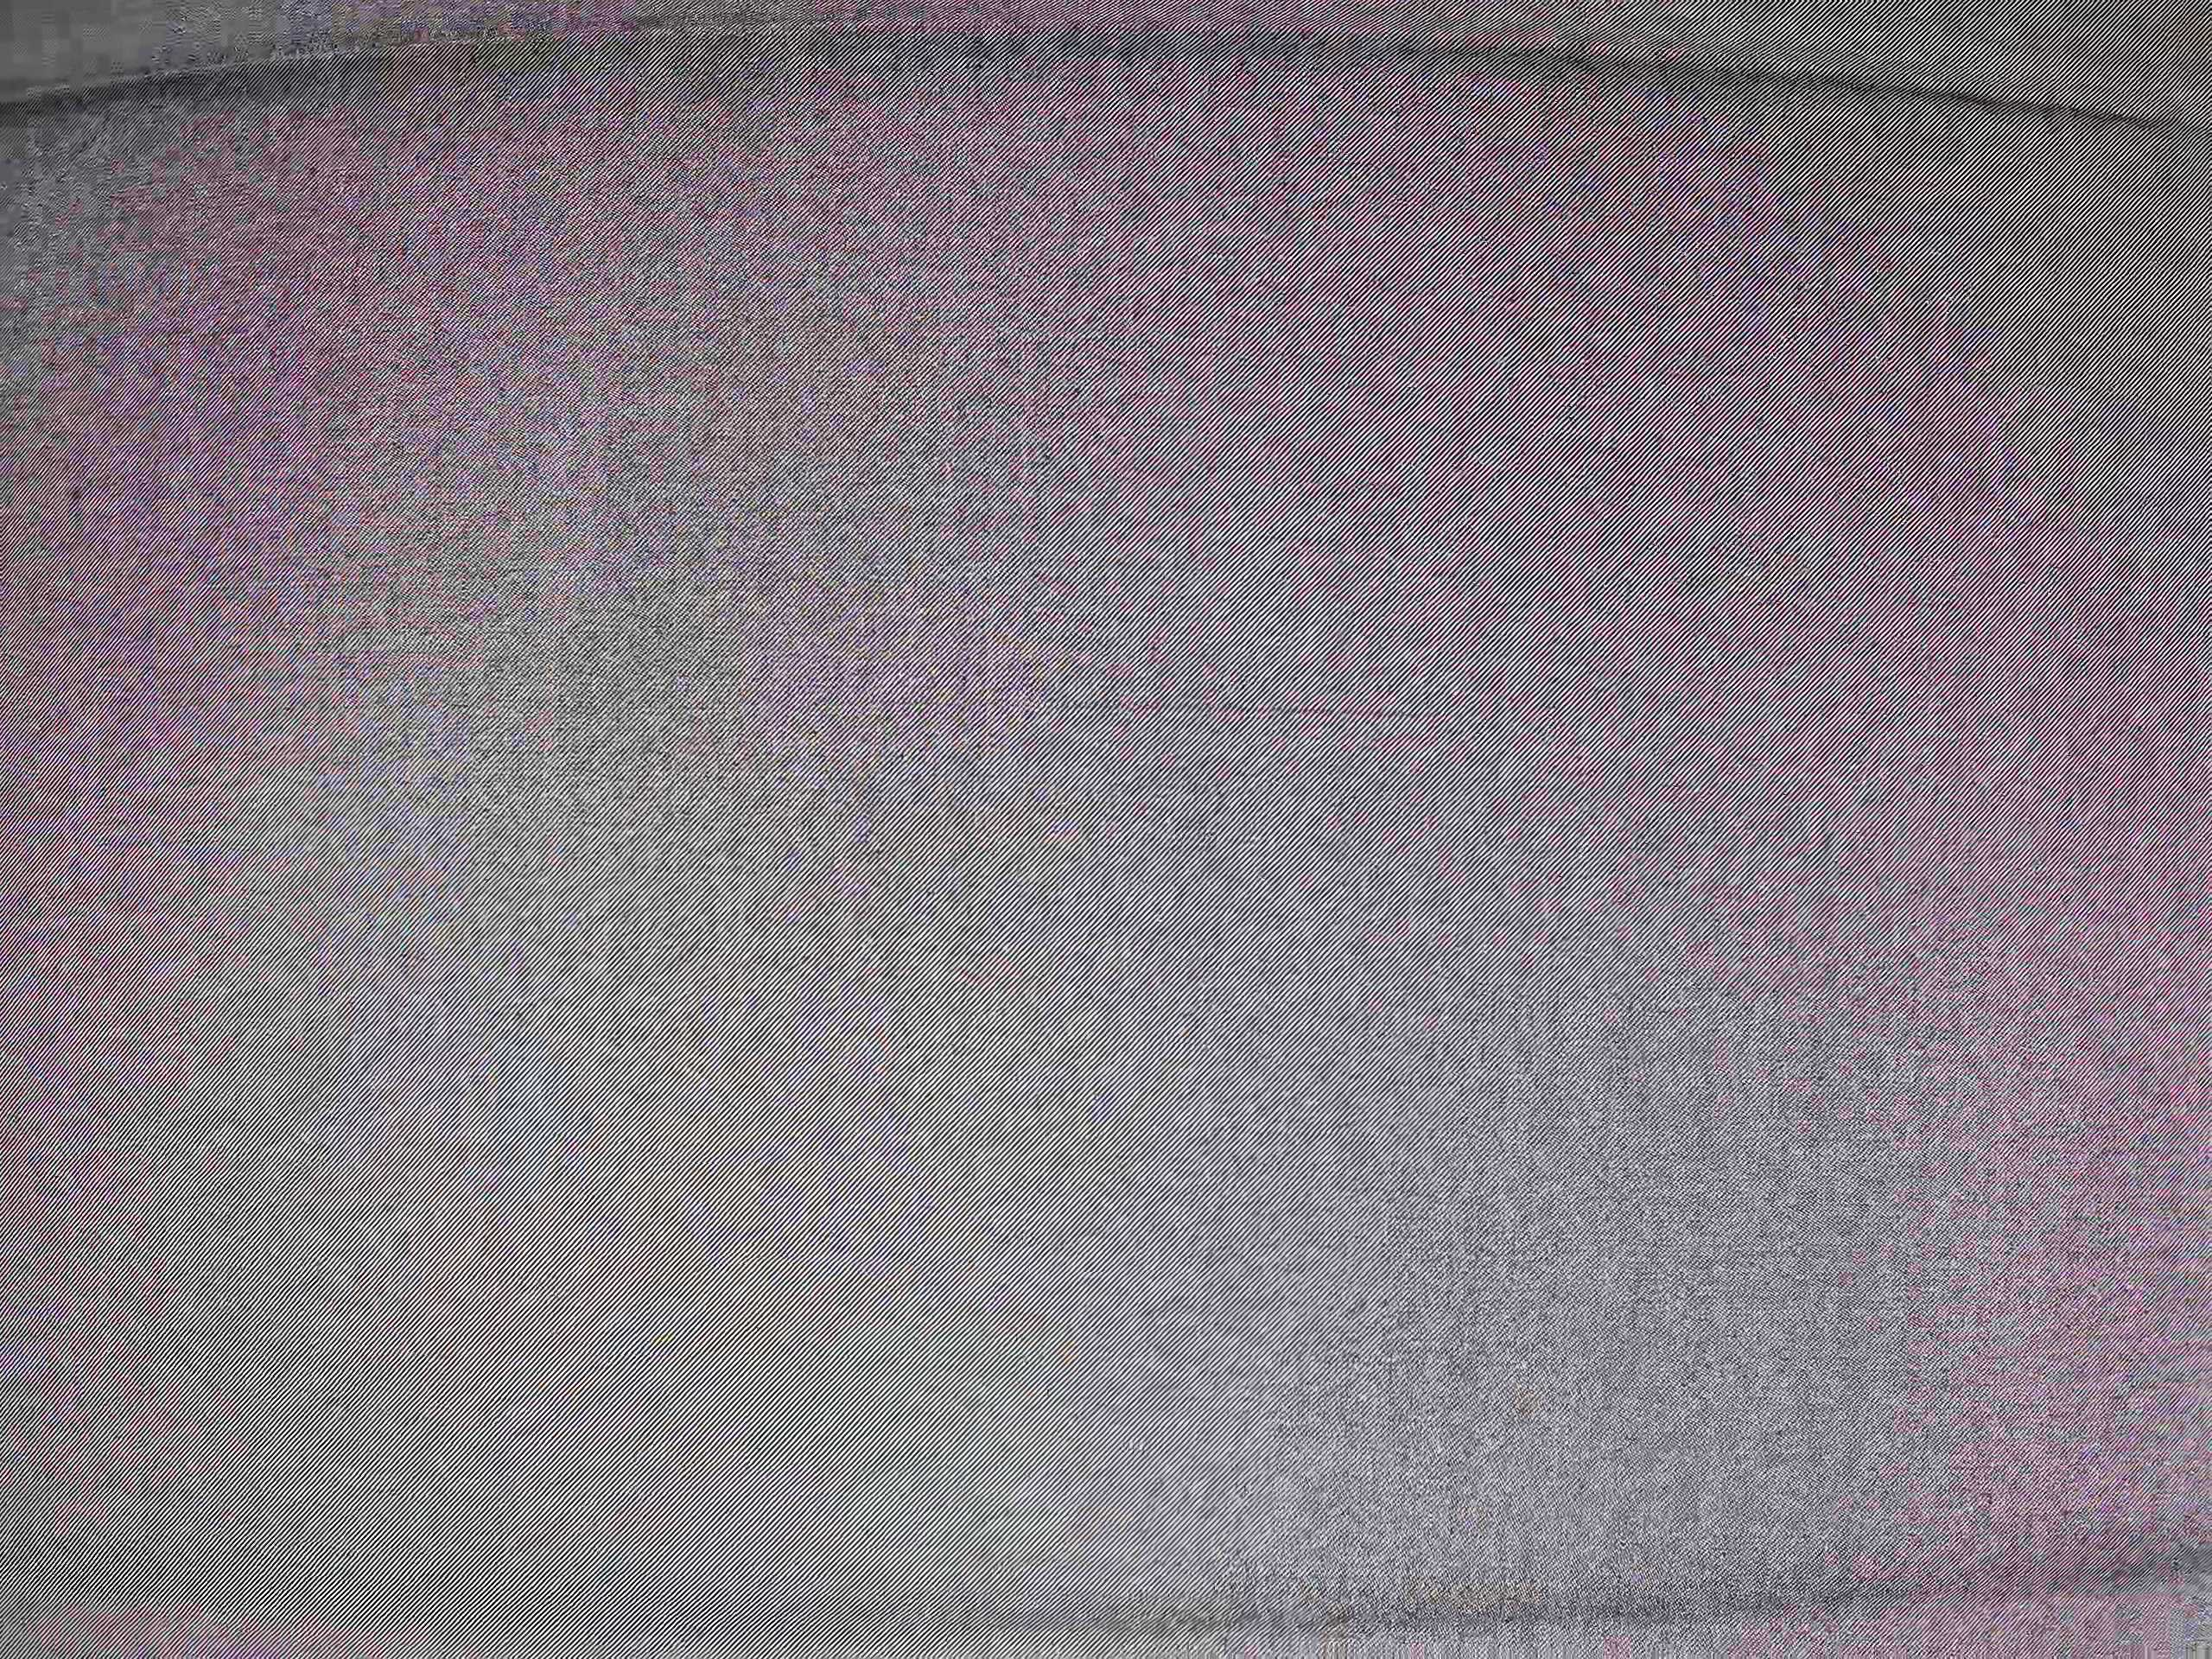thin-spinning: (810, 678, 1439, 730)
